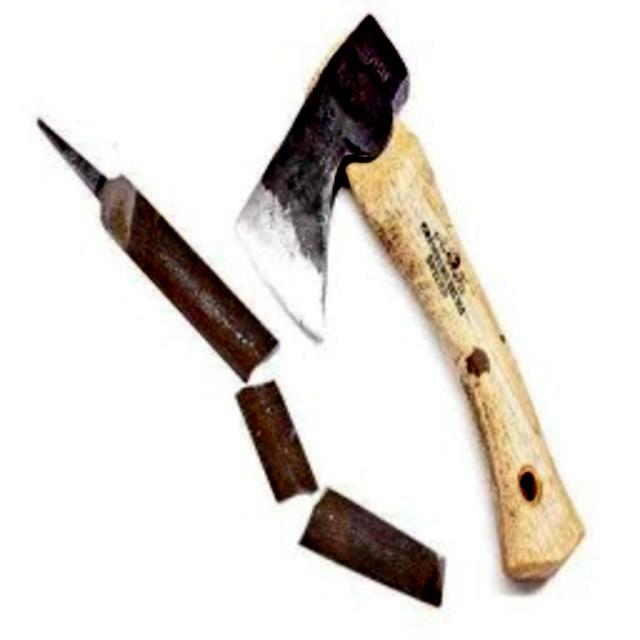ax: (226, 10, 603, 597)
